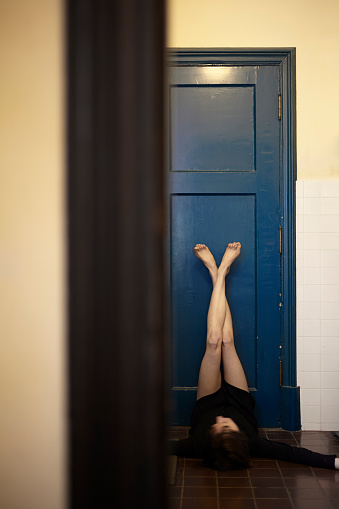deitado: (179, 253, 267, 466)
